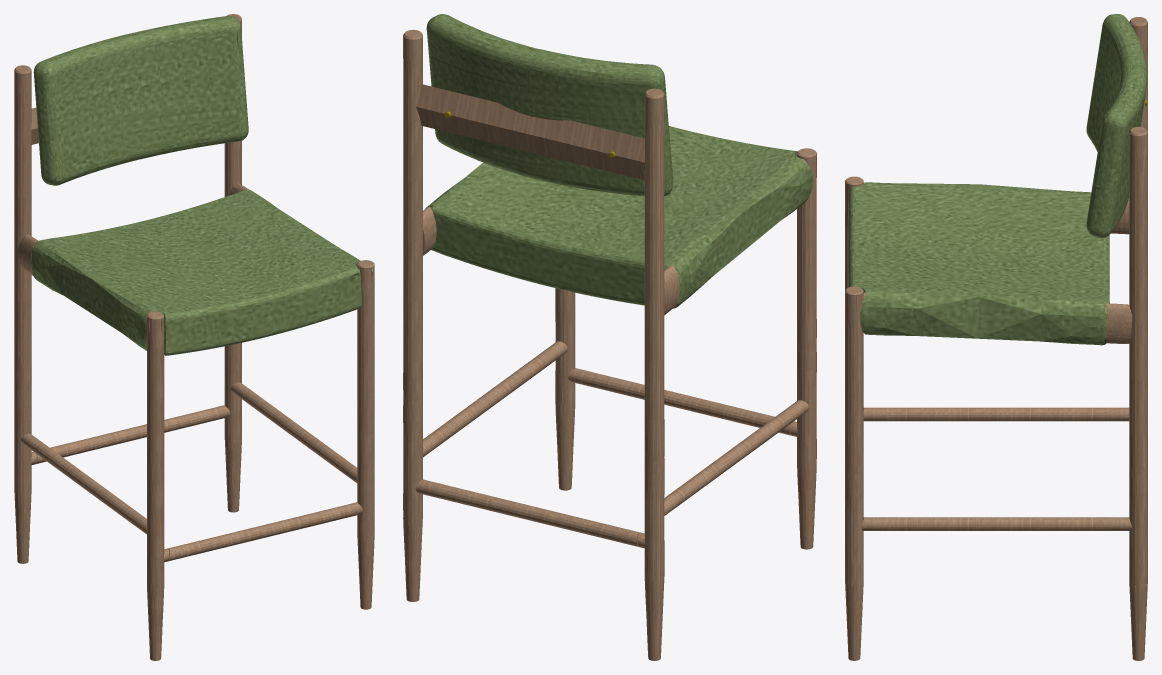
Rendered from ivo-banqueta.glb.
3 renders of one model, left to right at view 1: azimuth 30°, elevation 25°; view 2: azimuth 150°, elevation 25°; view 3: azimuth 270°, elevation 25°, orthographic. The views are drawn at different scales.
Visible parts, largest first — view 1: Geom3D (×3); view 2: Geom3D (×3); view 3: Geom3D (×3).
Boxes of the visible parts, bbox=[...] form: Geom3D (×3): bbox=[14, 14, 374, 660]; Geom3D (×3): bbox=[403, 14, 816, 660]; Geom3D (×3): bbox=[845, 14, 1147, 660].
Size of the model in its own units: 0.4517 by 0.9619 by 0.4886.
4 materials, 3 textured.
